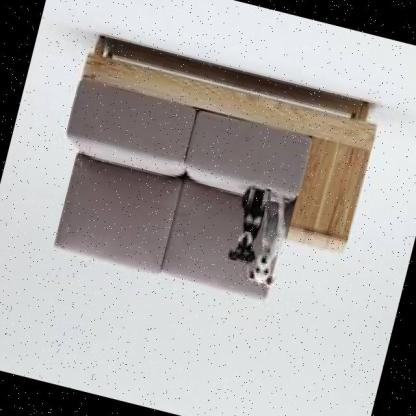Sofa: (19, 14, 408, 355)
